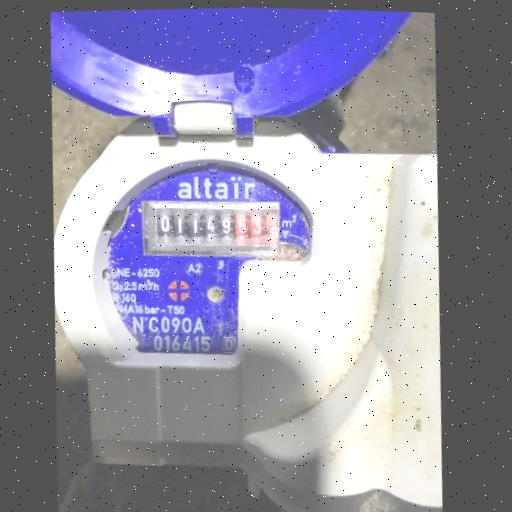0: (156, 213, 175, 245)
1: (187, 213, 206, 246), (172, 214, 191, 246)
3: (250, 214, 269, 247)
4: (203, 214, 222, 247)
5: (234, 214, 253, 247)
8: (264, 215, 281, 247)
9: (218, 214, 237, 246)
border_water_meter_number: (137, 194, 282, 265)
